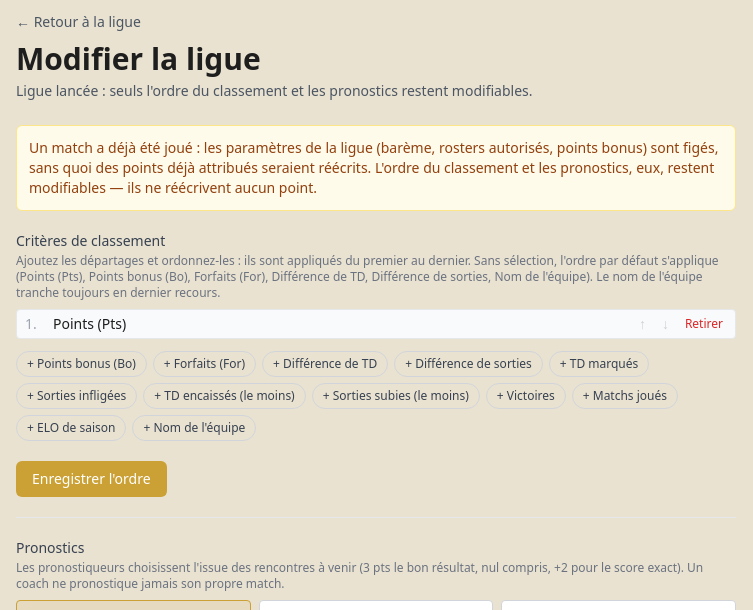
Scenario: EditLeaguePage › ligue verrouillée : l'ordre part sur la route hors verrou
Expected: the button with test id "locked-settings-submit" is shown, [16, 461, 166, 497]
Click the button with test id "league-tiebreak-add-cas_for". click: point(77, 396)
box: [16, 383, 137, 409]
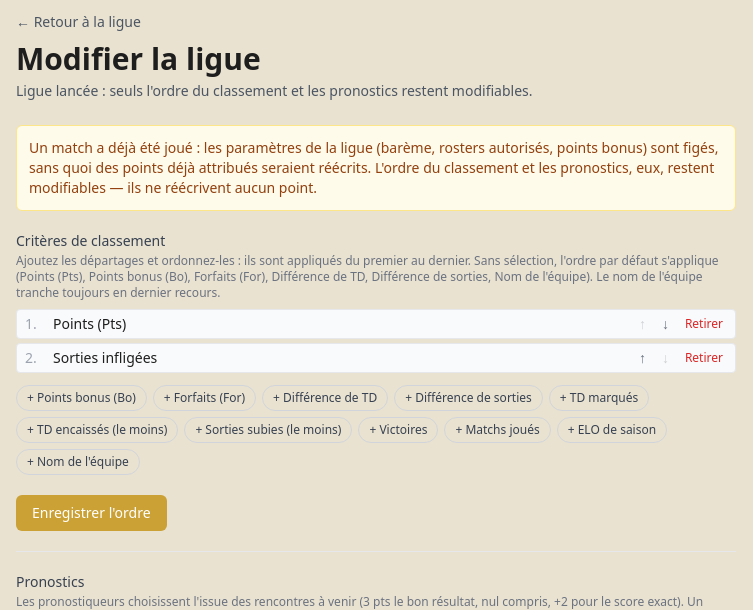
Click the button with test id "locked-settings-submit". click: point(91, 513)
box: [16, 495, 166, 531]
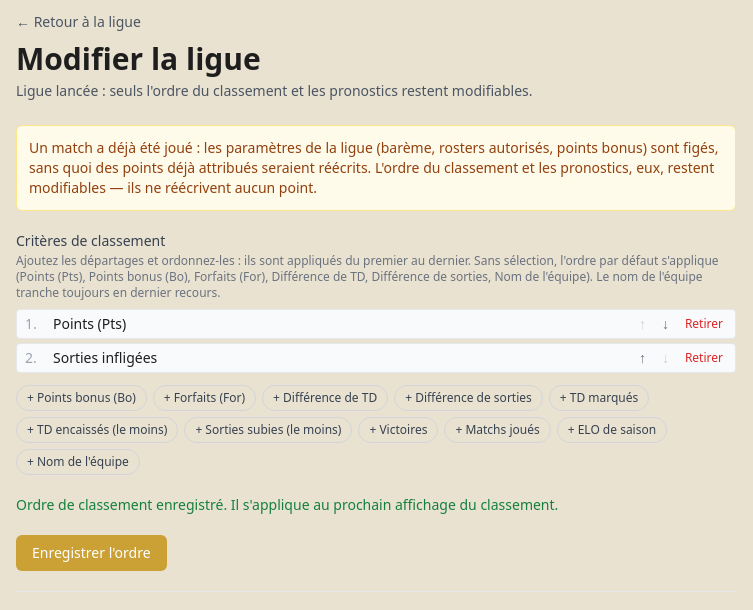
Expected: the text with test id "locked-settings-saved" is shown, [16, 495, 558, 514]
